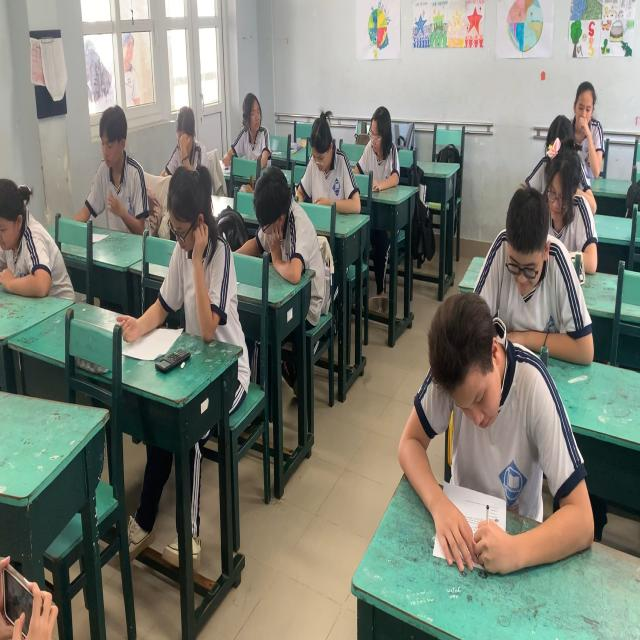cheating: (226, 59, 281, 159)
not_cheating: (384, 216, 589, 520), (160, 85, 244, 332), (472, 147, 592, 309), (1, 101, 86, 283), (242, 97, 327, 263), (502, 52, 587, 216), (83, 80, 165, 239), (550, 34, 626, 178), (296, 80, 362, 236), (346, 84, 408, 194), (158, 82, 207, 178)
